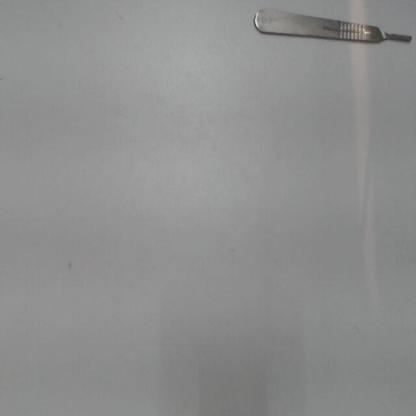No.3 BP Handle: (256, 3, 412, 50)
